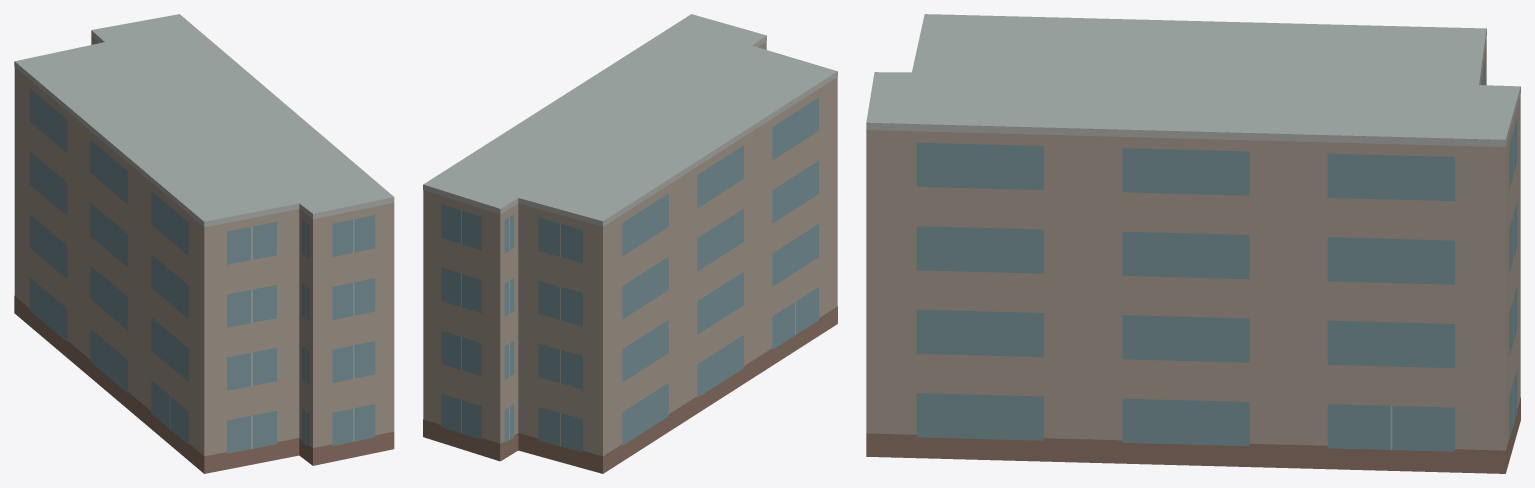
File: survey-upis-32513320.glb
3 views of the same model, side by side, from view 1: azimuth 30°, elevation 25°; view 2: azimuth 150°, elevation 25°; view 3: azimuth 270°, elevation 25° (orthographic). The views are drawn at different scales.
Visible parts, largest first — view 1: survey-upis-32513320.tmp; view 2: survey-upis-32513320.tmp; view 3: survey-upis-32513320.tmp.
Part boxes in pixels (x1,y1,x2,y2): survey-upis-32513320.tmp: [14, 14, 394, 473]; survey-upis-32513320.tmp: [423, 14, 837, 473]; survey-upis-32513320.tmp: [866, 14, 1520, 473].
Size of the model in its own units: 9.12 by 11.28 by 20.04.
